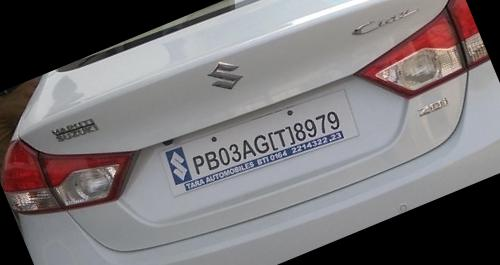plate: (147, 63, 372, 219)
